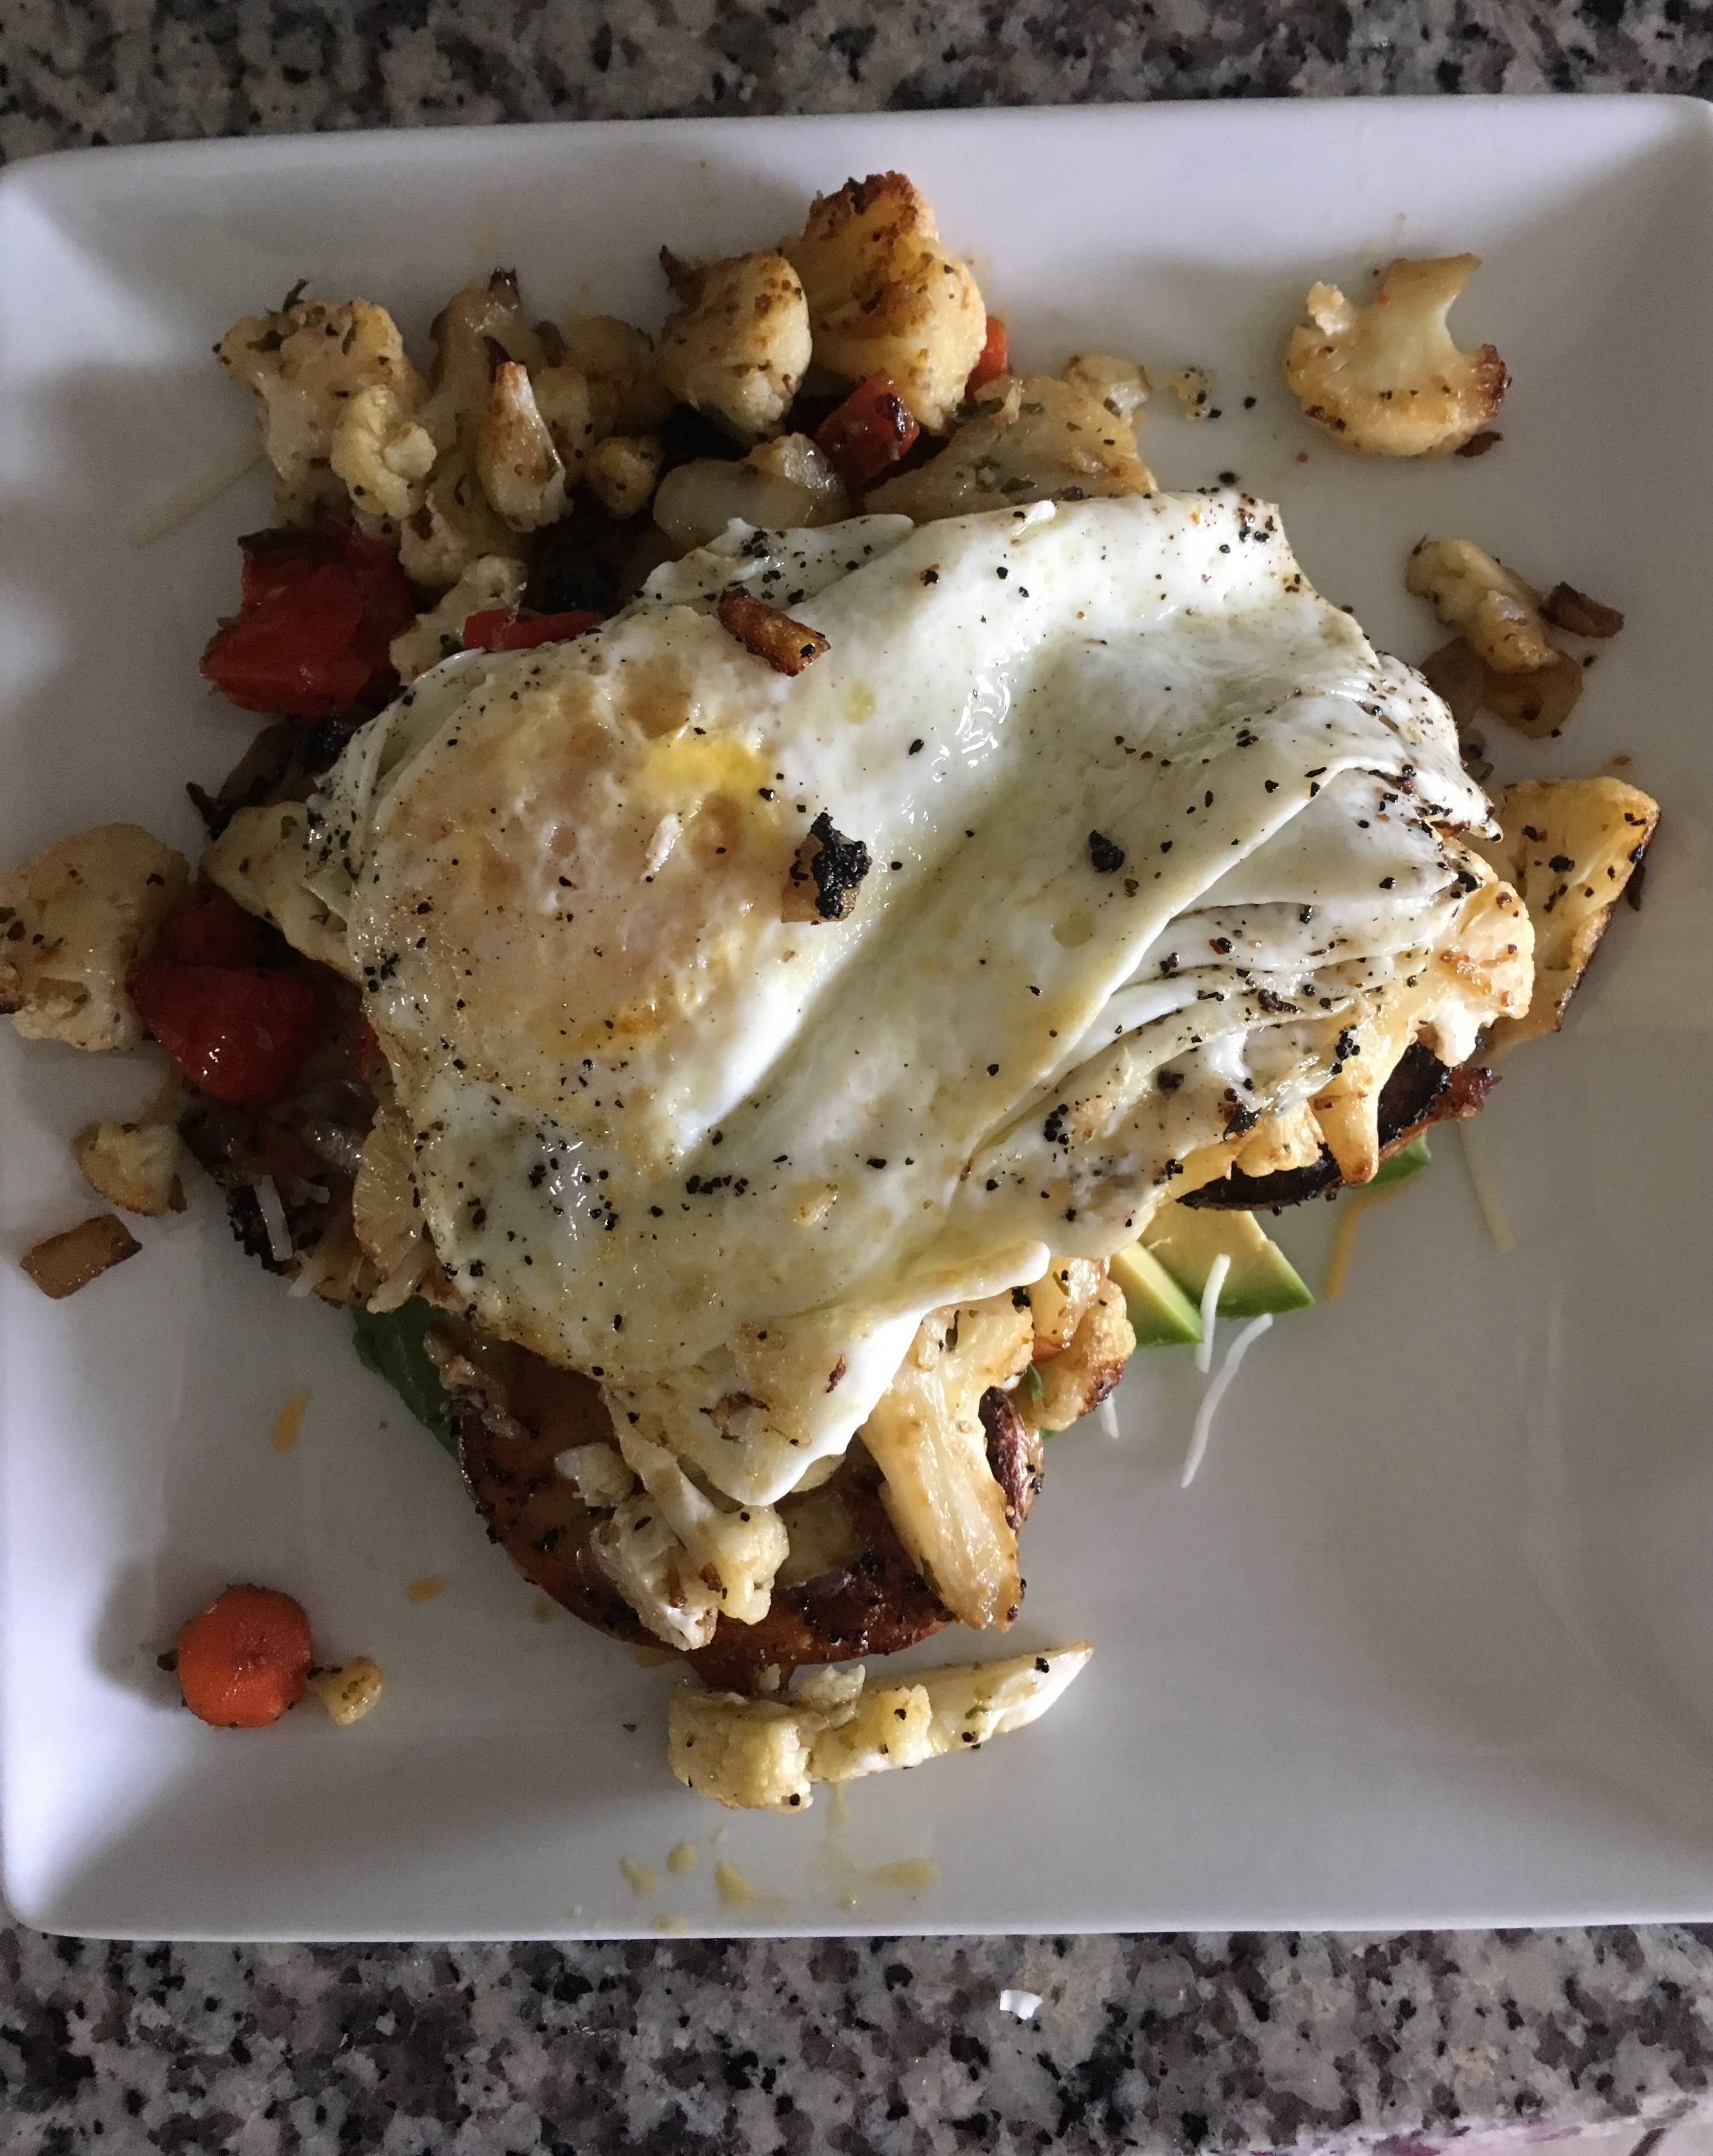fried egg: (360, 521, 1270, 1351)
